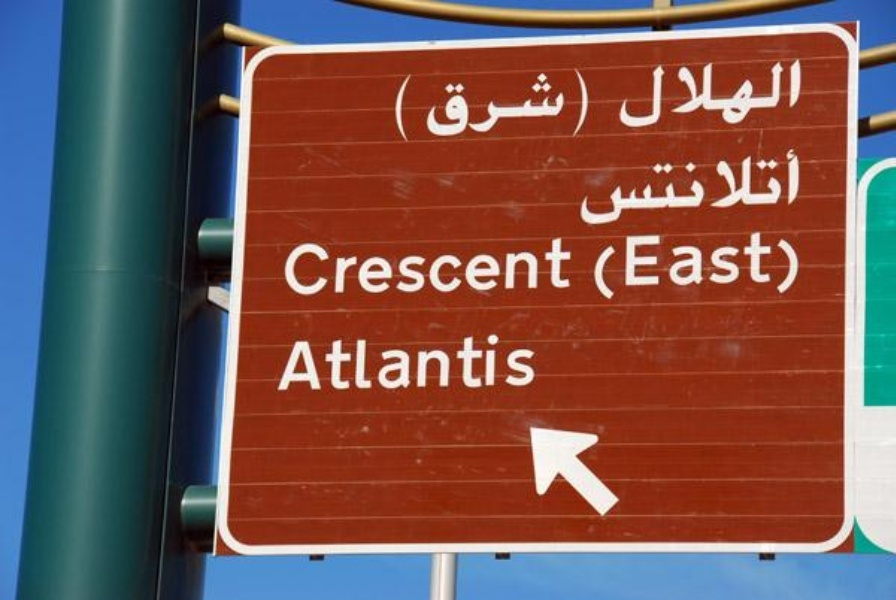text: (401, 65, 416, 145), (417, 65, 432, 145), (433, 65, 448, 145), (449, 65, 464, 145), (465, 65, 480, 145), (481, 65, 496, 145), (497, 65, 512, 145), (513, 65, 528, 145), (529, 65, 544, 145), (545, 65, 560, 145), (561, 65, 576, 145), (593, 148, 608, 226), (609, 148, 624, 226), (625, 148, 640, 226), (641, 148, 656, 226), (657, 148, 672, 226), (673, 148, 688, 226), (689, 148, 704, 226), (705, 148, 720, 226), (721, 148, 736, 226), (737, 148, 752, 226), (753, 148, 768, 226), (769, 148, 784, 226), (785, 148, 800, 226), (625, 60, 640, 135), (641, 60, 656, 135), (657, 60, 672, 135), (673, 60, 688, 135), (689, 60, 704, 135), (705, 60, 720, 135), (721, 60, 736, 135), (737, 60, 752, 135), (753, 60, 768, 135), (769, 60, 784, 135), (785, 60, 800, 135), (593, 230, 608, 303), (609, 230, 624, 303), (625, 230, 640, 303), (641, 230, 656, 303), (657, 230, 672, 303), (673, 230, 688, 303), (689, 230, 704, 303), (705, 230, 720, 303), (721, 230, 736, 303), (737, 230, 752, 303), (753, 230, 768, 303), (769, 230, 784, 303), (785, 230, 800, 303), (577, 65, 590, 145), (289, 236, 304, 301), (305, 236, 320, 301), (321, 236, 336, 301), (337, 236, 352, 301), (353, 236, 368, 301), (369, 236, 384, 301), (385, 236, 400, 301), (401, 236, 416, 301), (417, 236, 432, 301), (433, 236, 448, 301), (449, 236, 464, 301), (465, 236, 480, 301), (481, 236, 496, 301), (497, 236, 512, 301), (513, 236, 528, 301), (529, 236, 544, 301), (545, 236, 560, 301), (289, 333, 304, 393), (305, 333, 320, 393), (321, 333, 336, 393), (337, 333, 352, 393), (353, 333, 368, 393), (369, 333, 384, 393), (385, 333, 400, 393), (401, 333, 416, 393), (417, 333, 432, 393), (433, 333, 448, 393), (449, 333, 464, 393), (465, 333, 480, 393), (481, 333, 496, 393), (497, 333, 512, 393), (513, 333, 528, 393), (581, 148, 592, 226), (561, 236, 572, 301), (617, 60, 624, 135), (529, 333, 537, 393), (801, 148, 805, 226), (284, 236, 288, 301), (284, 333, 288, 393), (801, 60, 804, 135), (801, 230, 804, 303), (398, 65, 400, 145), (590, 230, 592, 303)
